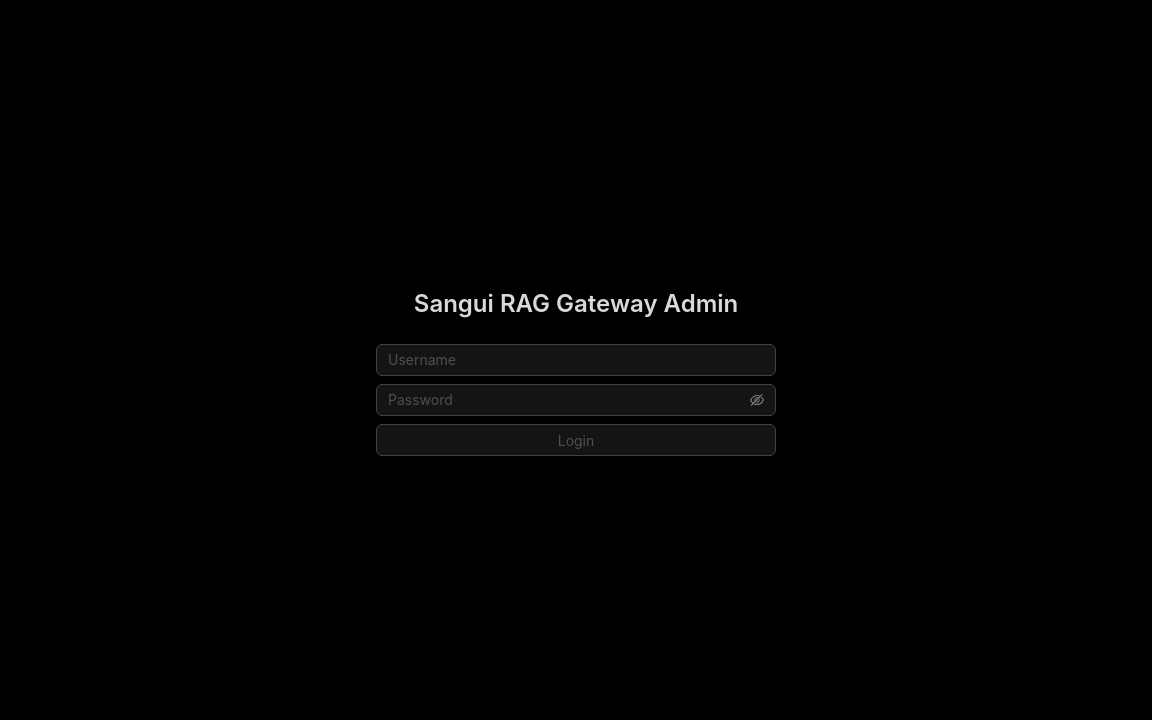
Test case: AdminShell › authenticated navigation › shows navigation menu items after login
Type "admin" into the field with placeholder "Username" at coordinates (576, 360), box [376,344,776,376]
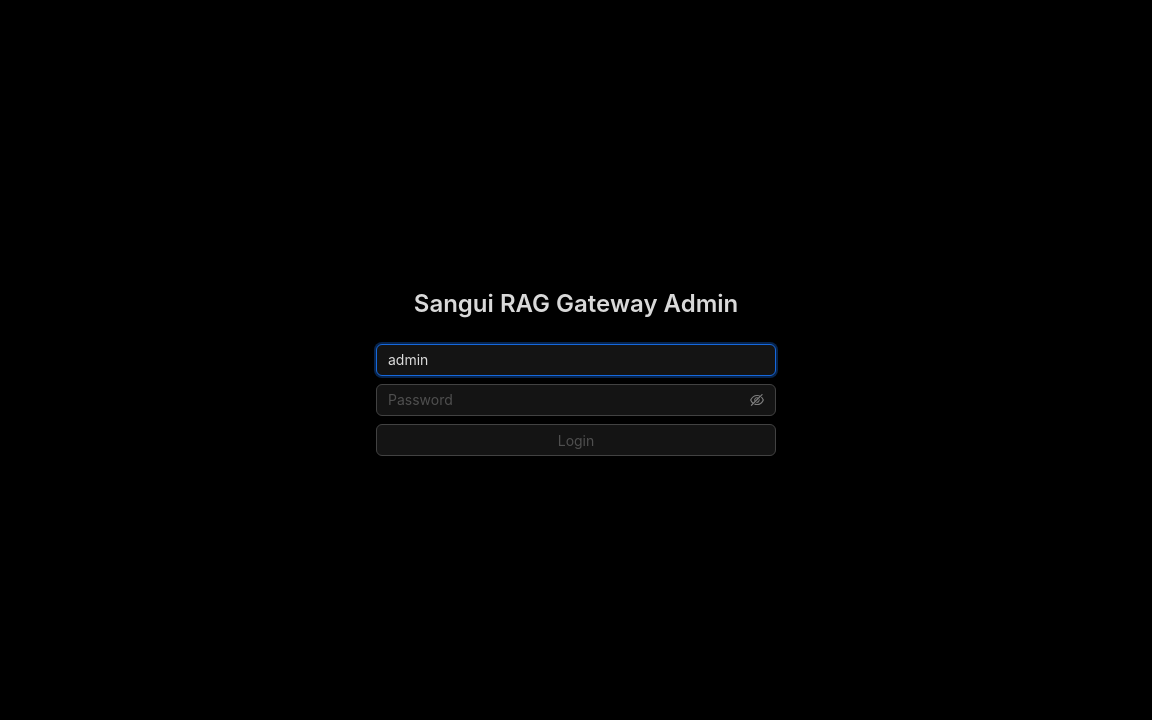
Type "pass" into the password field with placeholder "Password" at coordinates (567, 400), box [388,389,746,411]
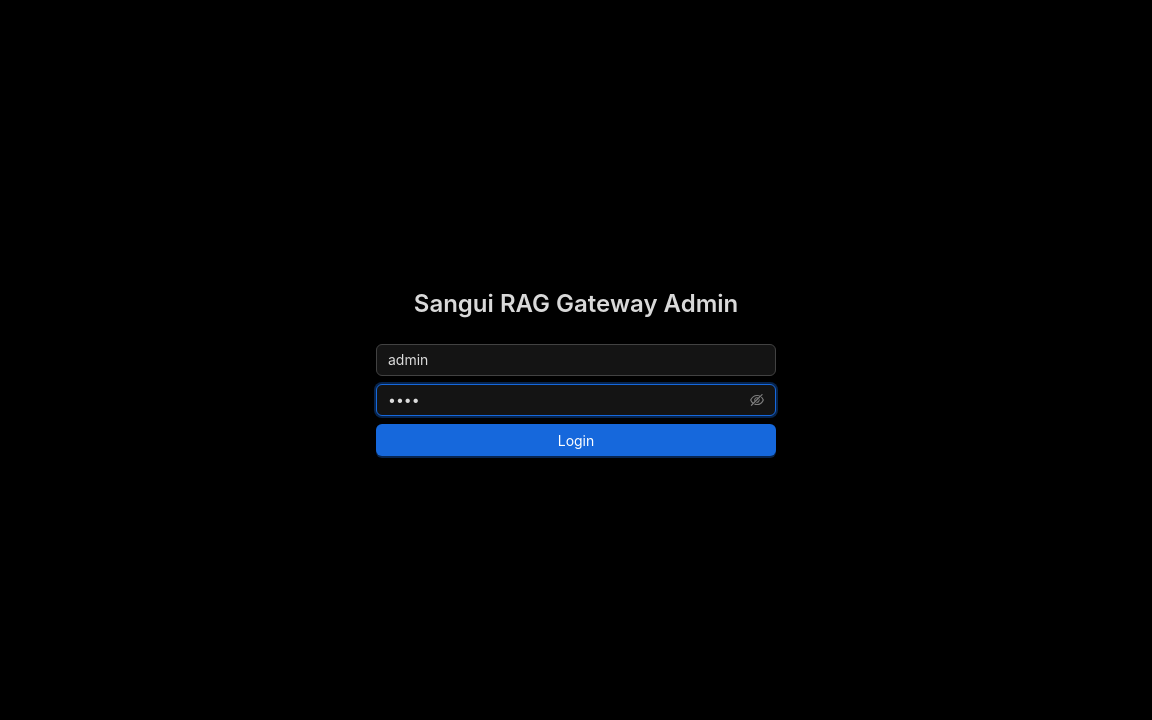
Click the button "Login" at coordinates (576, 440), box [376,424,776,456]
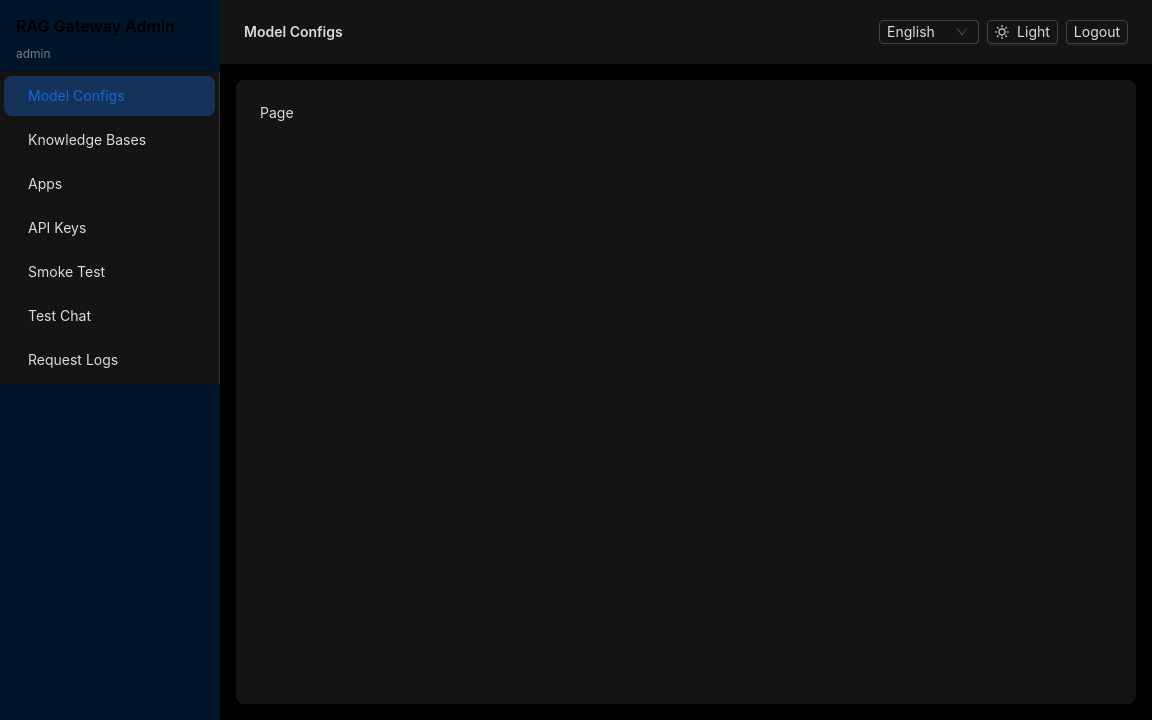
Expected: the text "Knowledge Bases" is shown, [28,131,146,148]
Expected: the text "Apps" is shown, [28,175,62,192]
Expected: the text "API Keys" is shown, [28,219,86,236]
